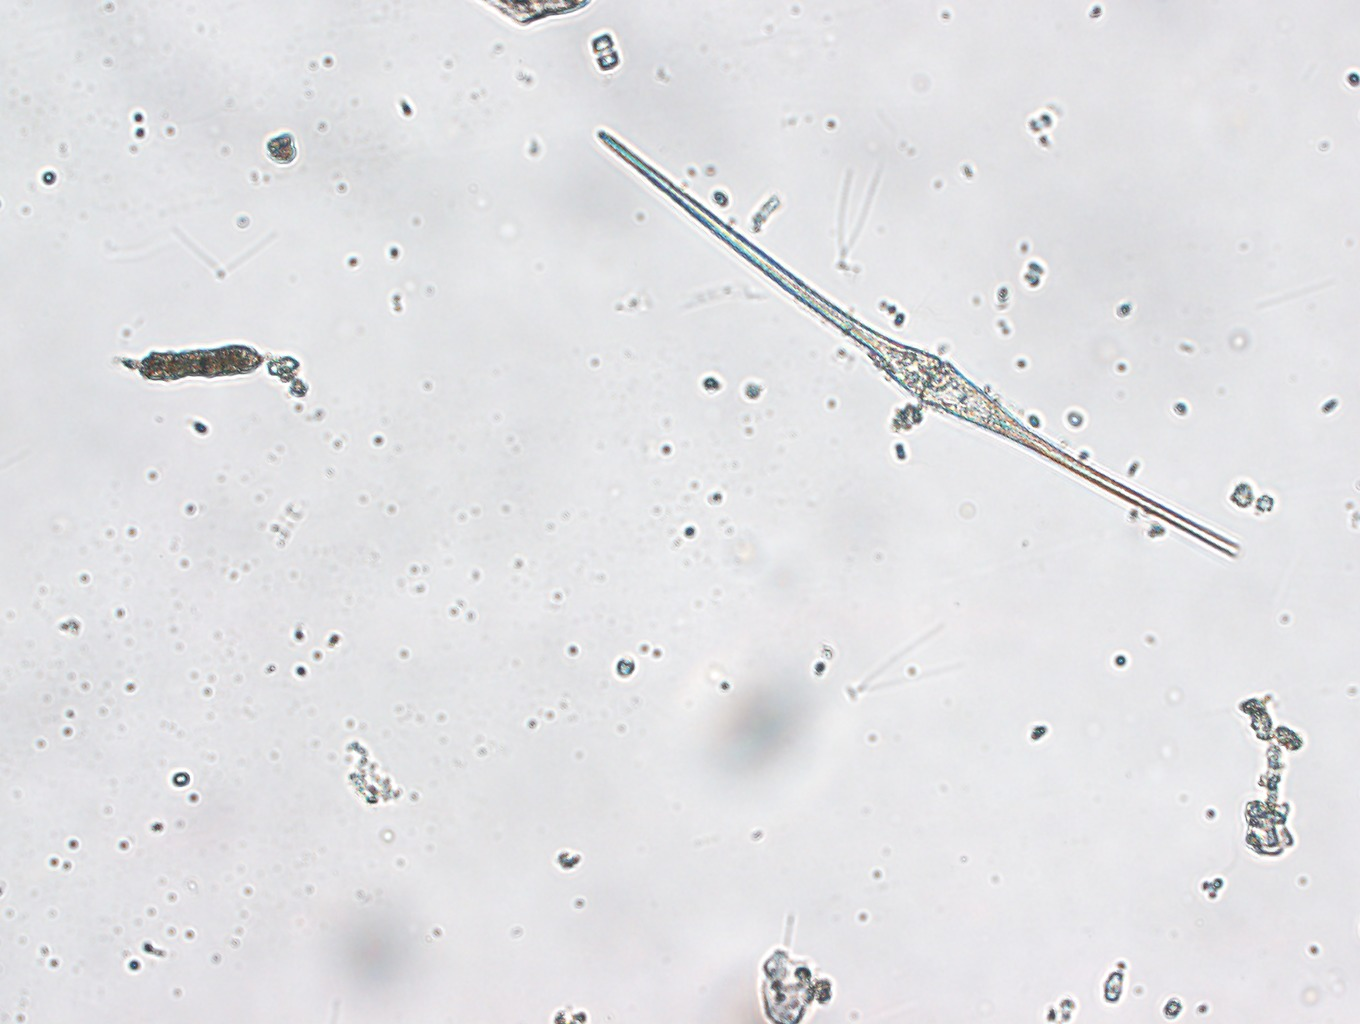ceratium fusus: (589, 125, 1244, 563)
